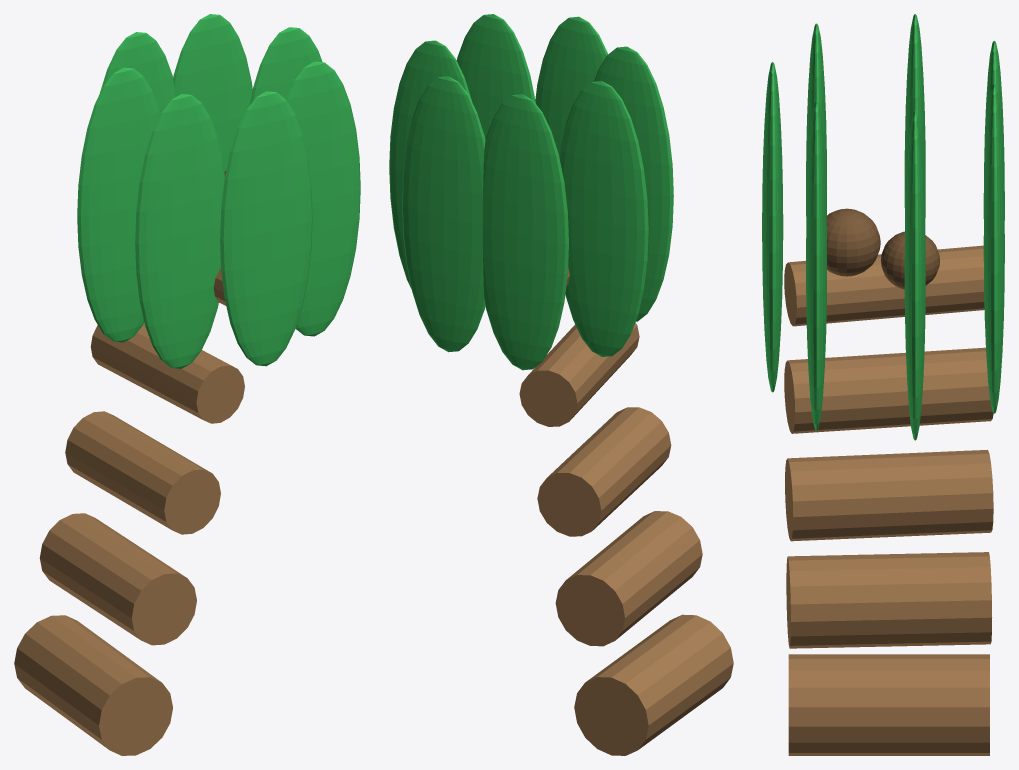
The model's file is palm.glb.
The picture shows the model from 3 angles, left to right: view 1: azimuth 30°, elevation 25°; view 2: azimuth 150°, elevation 25°; view 3: azimuth 270°, elevation 25°; orthographic projection. The views are drawn at different scales.
Visible parts, largest first — view 1: Leaf0, Leaf6, Leaf5, Tr0, Leaf1, Tr1, Tr2, Tr3, Leaf3, Leaf2, Leaf4; view 2: Leaf4, Leaf5, Leaf3, Tr0, Tr1, Tr2, Leaf6, Tr3, Leaf1, Leaf0, Leaf2; view 3: Tr0, Tr1, Tr2, Tr3, Tr4, Leaf2, Leaf3, Leaf0, Leaf1, Nut1, Leaf5, Leaf6 (+2 smaller).
Boxes of the visible parts, bbox=[...] form: Leaf0: bbox=[220, 91, 312, 366]; Leaf6: bbox=[135, 94, 224, 368]; Leaf5: bbox=[77, 67, 160, 342]; Tr0: bbox=[14, 615, 172, 755]; Leaf1: bbox=[285, 61, 360, 336]; Tr1: bbox=[39, 513, 196, 645]; Tr2: bbox=[65, 411, 220, 534]; Tr3: bbox=[90, 323, 244, 423]; Leaf3: bbox=[173, 14, 252, 171]; Leaf2: bbox=[249, 27, 322, 104]; Leaf4: bbox=[100, 32, 174, 113]; Leaf4: bbox=[482, 94, 568, 370]; Leaf5: bbox=[559, 81, 648, 356]; Leaf3: bbox=[402, 76, 485, 352]; Tr0: bbox=[574, 614, 733, 755]; Tr1: bbox=[555, 511, 702, 646]; Tr2: bbox=[537, 407, 671, 536]; Leaf6: bbox=[594, 46, 673, 321]; Tr3: bbox=[519, 322, 639, 426]; Leaf1: bbox=[456, 14, 535, 139]; Leaf0: bbox=[535, 16, 607, 155]; Leaf2: bbox=[389, 40, 472, 288]; Tr0: bbox=[788, 654, 989, 755]; Tr1: bbox=[786, 552, 992, 648]; Tr2: bbox=[785, 450, 993, 541]; Tr3: bbox=[784, 347, 993, 433]; Tr4: bbox=[784, 245, 984, 326]; Leaf2: bbox=[904, 110, 925, 440]; Leaf3: bbox=[983, 83, 1004, 413]; Leaf0: bbox=[762, 62, 783, 392]; Leaf1: bbox=[806, 100, 826, 430]; Nut1: bbox=[826, 208, 880, 276]; Leaf5: bbox=[904, 14, 925, 226]; Leaf6: bbox=[806, 23, 826, 217].
Bounding box in the file's own units: 1.88 × 3.95 × 1.15.
